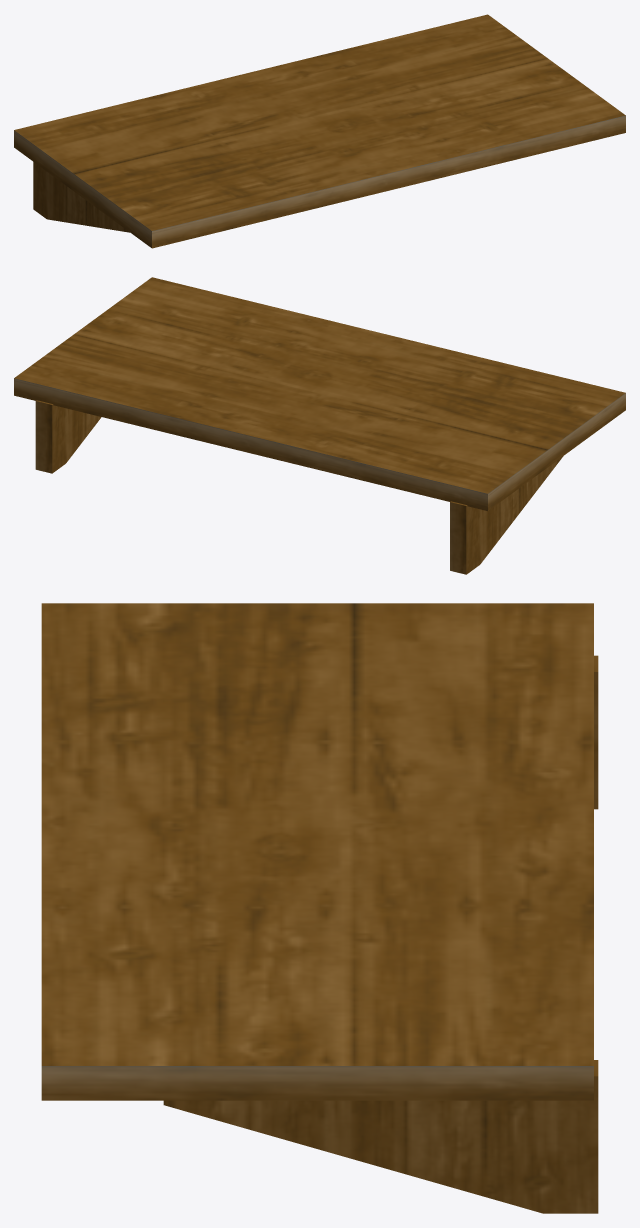
The model's file is kitcentop03b.fbx.
3 renders of one model, top to bottom at view 1: azimuth 30°, elevation 25°; view 2: azimuth 150°, elevation 25°; view 3: azimuth 270°, elevation 25°, orthographic. The views are drawn at different scales.
Visible parts, largest first — view 1: kitcentop03b; view 2: kitcentop03b; view 3: kitcentop03b.
Part boxes in pixels (x1=…): kitcentop03b: x1=14, y1=14, x2=625, y2=248; kitcentop03b: x1=14, y1=277, x2=625, y2=574; kitcentop03b: x1=41, y1=603, x2=598, y2=1213.
Size of the model in its own units: 93.03 by 15.95 by 47.32.
